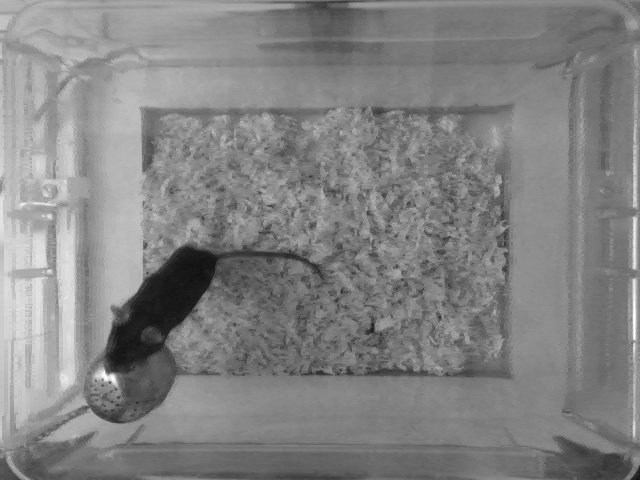mice: (99, 243, 323, 374)
